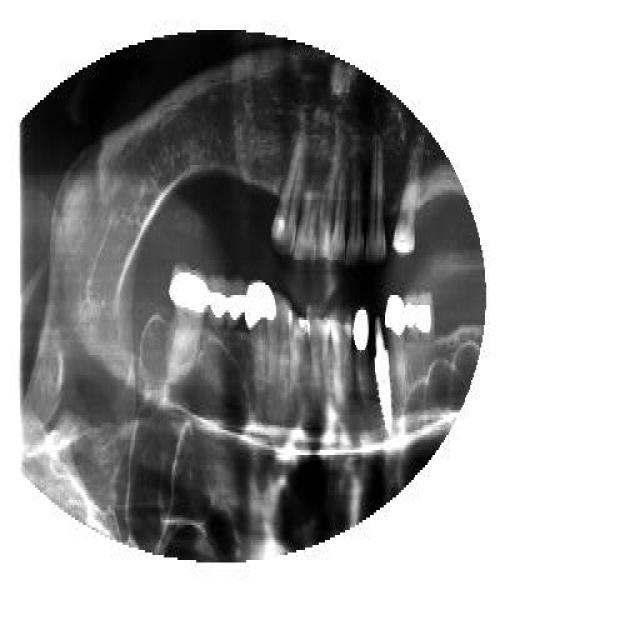Fillings: (167, 262, 205, 388), (403, 287, 435, 385), (245, 280, 276, 380), (351, 303, 370, 405), (384, 295, 405, 380), (226, 272, 244, 360), (208, 273, 226, 355)
Implant: (371, 312, 394, 438)
